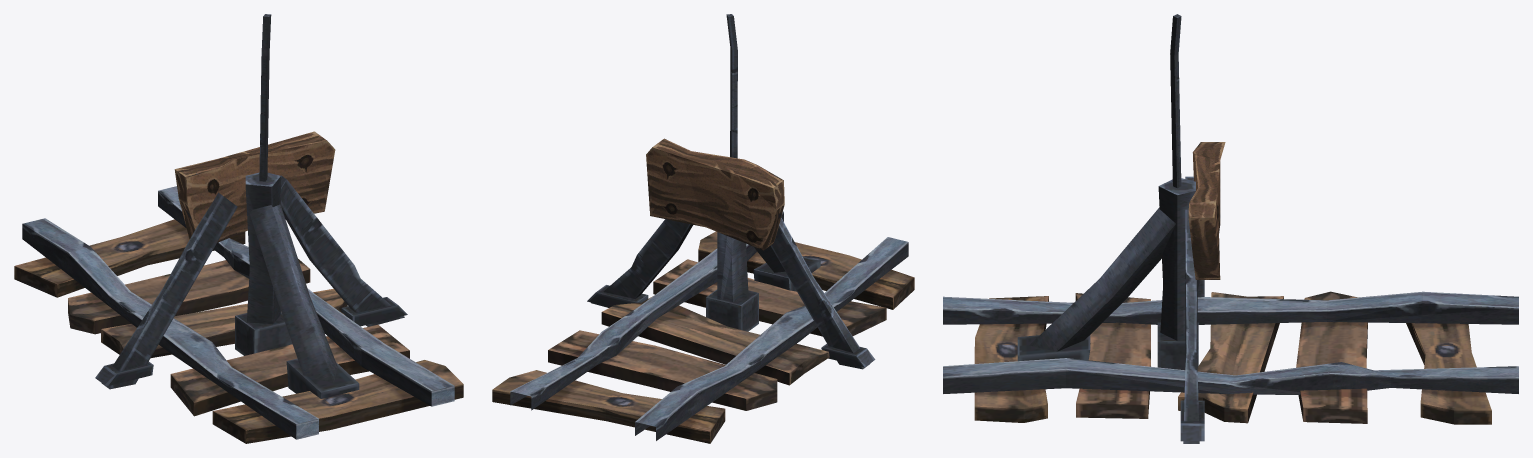
The model's file is mine_track_end.fbx.
3 renders of one model, left to right at view 1: azimuth 30°, elevation 25°; view 2: azimuth 150°, elevation 25°; view 3: azimuth 270°, elevation 25°, orthographic. The views are drawn at different scales.
Parts seen in each view (by area): view 1: obj1.005; view 2: obj1.005; view 3: obj1.005.
Part boxes in pixels (box(x1,y1,x2,y2)): obj1.005: box(14, 14, 463, 443); obj1.005: box(492, 14, 914, 443); obj1.005: box(943, 14, 1518, 443).
Size of the model in its own units: 2.54 by 2.76 by 4.
